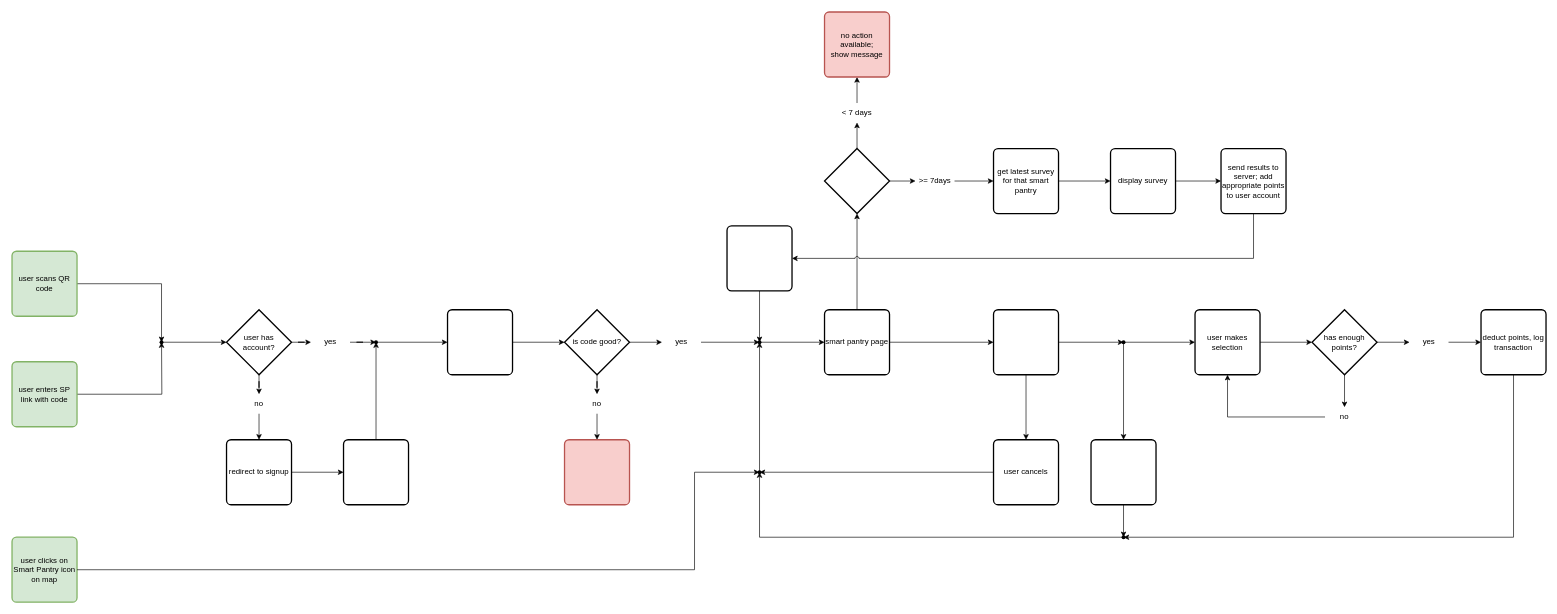
Image size: 1557x614. Some labels were removed from this diagram. Each missing label, with the box of its shape:
display error message: (564, 439, 630, 505)
last time took survey: (824, 148, 890, 214)
send points to smart pantry: (993, 309, 1059, 375)
signup workflow: (343, 439, 409, 505)
toast message: (726, 225, 792, 291)
user times out: (1090, 439, 1156, 505)
verify smart pantry code: (447, 309, 513, 375)
